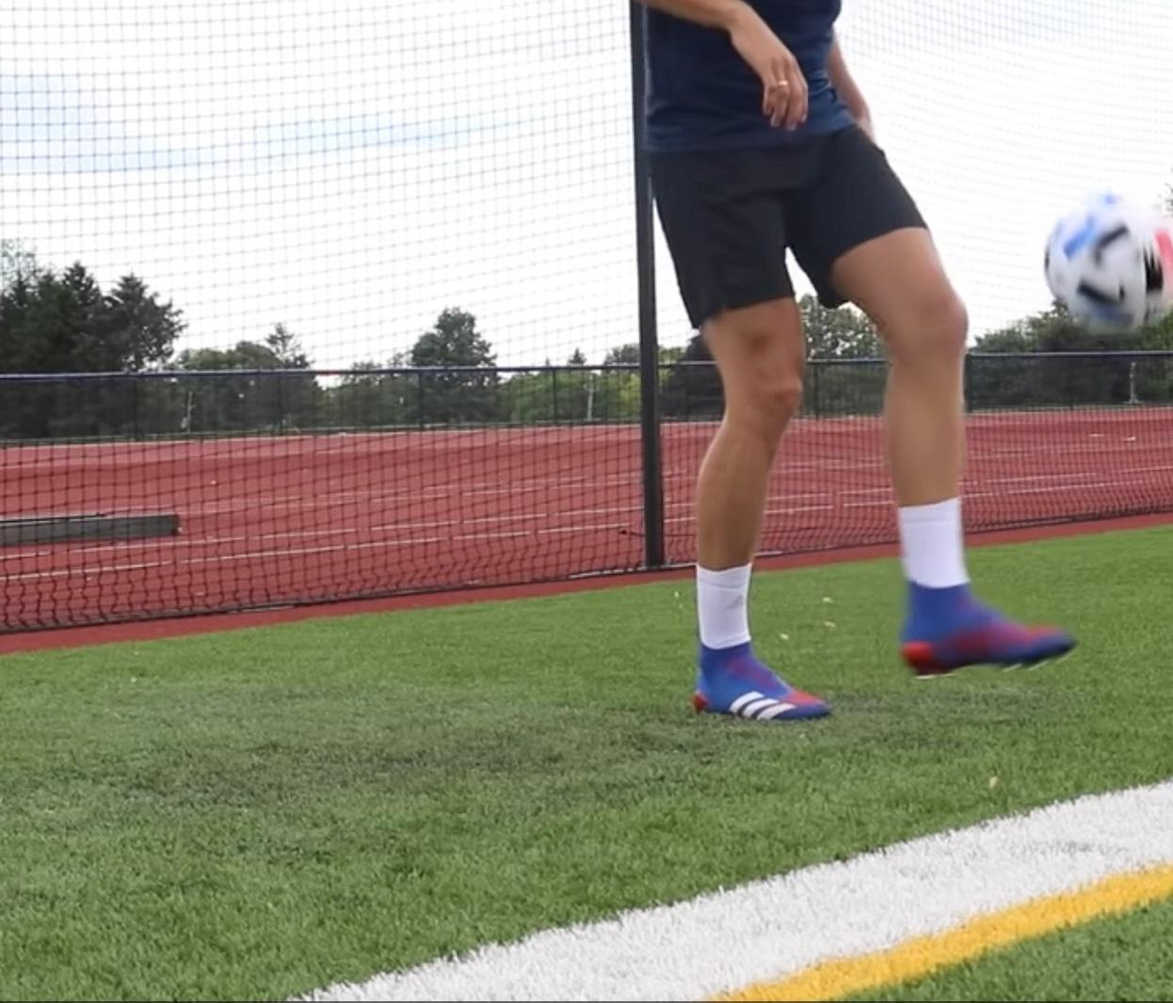ball: (1045, 194, 1173, 334)
foot: (899, 578, 1082, 679), (688, 637, 836, 722)
person: (626, 0, 1080, 720)
